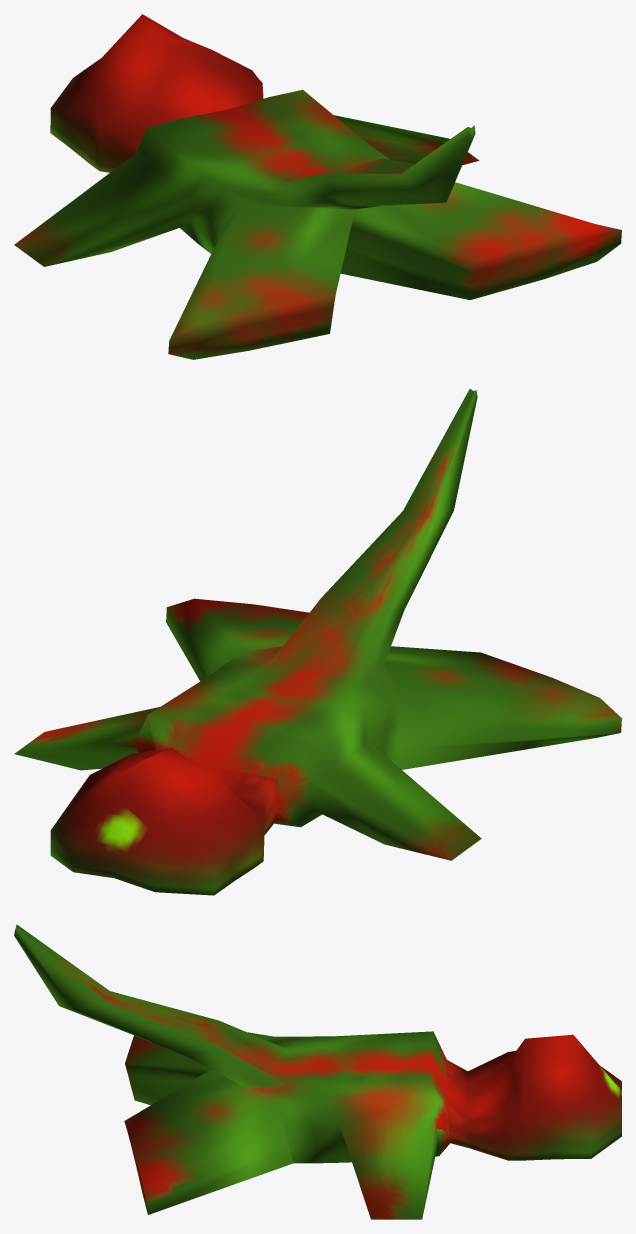
File: pelte_lacerte.glb
3 views of the same model, one above another, from view 1: azimuth 30°, elevation 25°; view 2: azimuth 150°, elevation 25°; view 3: azimuth 270°, elevation 25° (orthographic). The views are drawn at different scales.
Visible parts, largest first — view 1: Cube.001; view 2: Cube.001; view 3: Cube.001.
Part boxes in pixels (<box>): Cube.001: <box>14,14,621,359</box>; Cube.001: <box>14,389,621,895</box>; Cube.001: <box>14,924,621,1219</box>.
Size of the model in its own units: 1.8 by 0.9455 by 2.48.
Materials: 1 (1 with a texture image).
